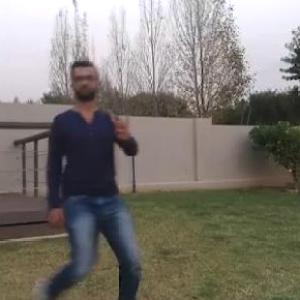takeoff-hand: (108, 104, 136, 140)
